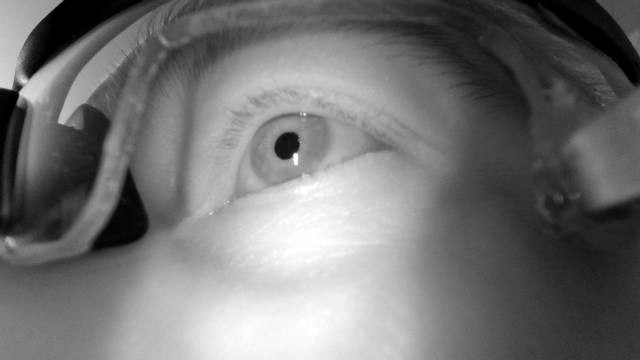pupil: (274, 131, 301, 161)
